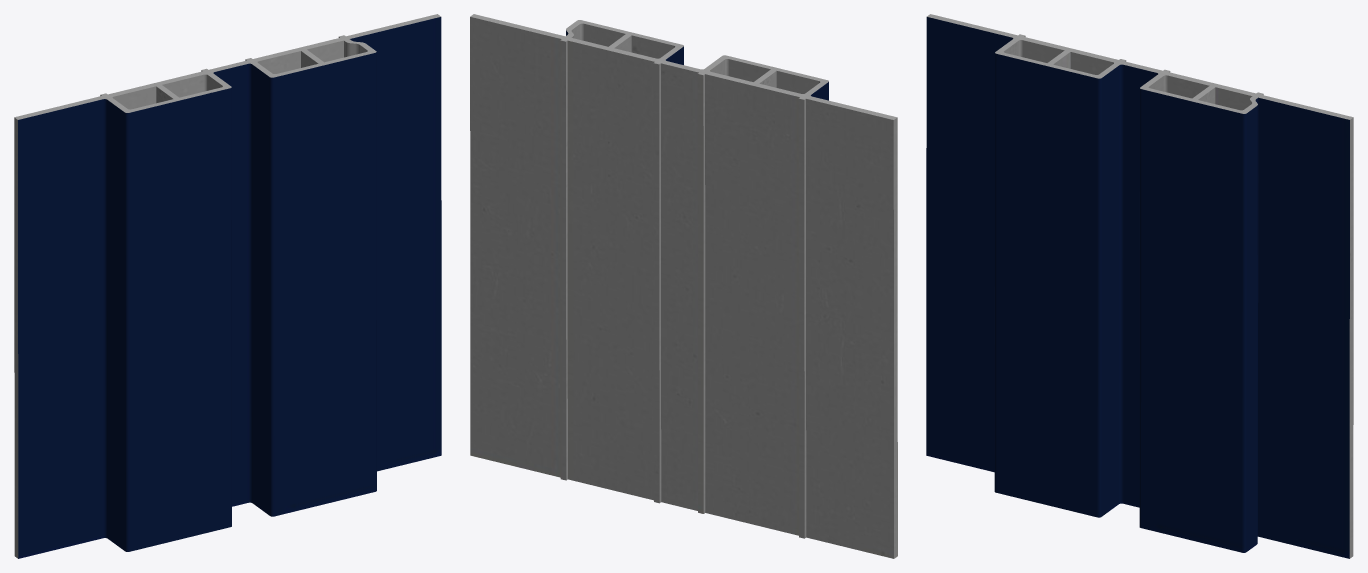
Rendered from ikilimavi.glb.
The picture shows the model from 3 angles, left to right: view 1: azimuth 30°, elevation 25°; view 2: azimuth 150°, elevation 25°; view 3: azimuth 330°, elevation 25°; orthographic projection.
Parts seen in each view (by area): view 1: Plane.008; view 2: Plane.008; view 3: Plane.008.
Part boxes in pixels (x1=…): Plane.008: x1=14, y1=14, x2=441, y2=558; Plane.008: x1=470, y1=14, x2=897, y2=558; Plane.008: x1=926, y1=14, x2=1353, y2=558.
Size of the model in its own units: 8.1 by 8.03 by 0.8706.
2 materials, 2 textured.
